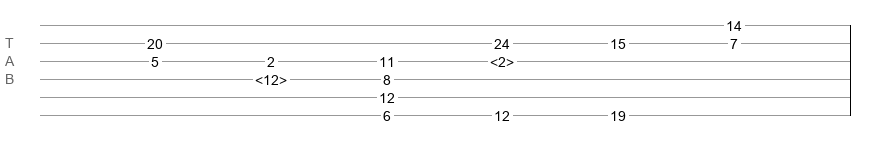11: (379, 54, 395, 64)
12: (379, 90, 395, 100), (494, 108, 510, 118)
14: (726, 18, 742, 28)
15: (610, 36, 626, 46)
19: (610, 108, 626, 118)
2: (267, 54, 275, 64)
20: (147, 36, 163, 46)
24: (494, 36, 510, 46)
5: (151, 54, 159, 64)
6: (383, 108, 391, 118)
7: (730, 36, 738, 46)
8: (383, 72, 391, 82)
harmonic: (255, 72, 287, 82), (490, 54, 514, 64)
